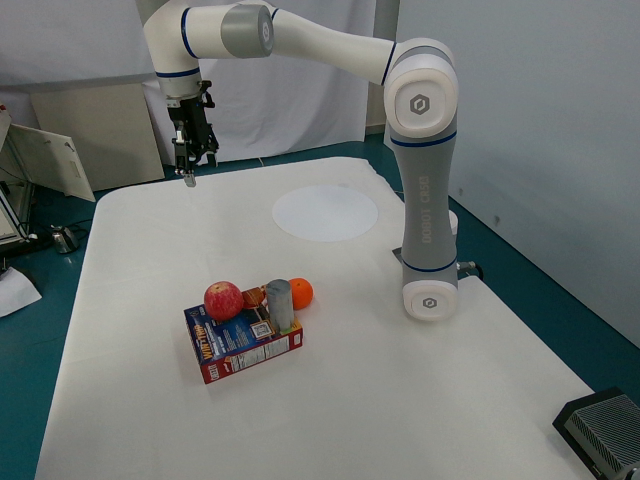apple: (201, 273, 247, 322)
metalROD: (260, 274, 296, 331)
